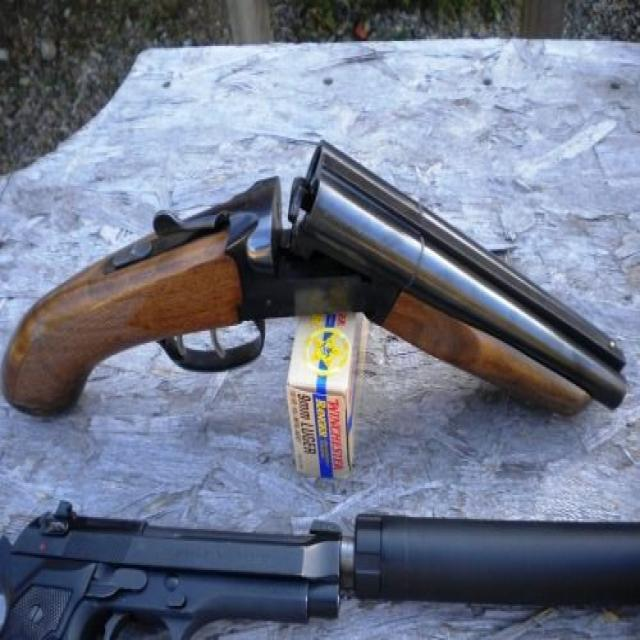shotgun: (9, 138, 628, 432)
